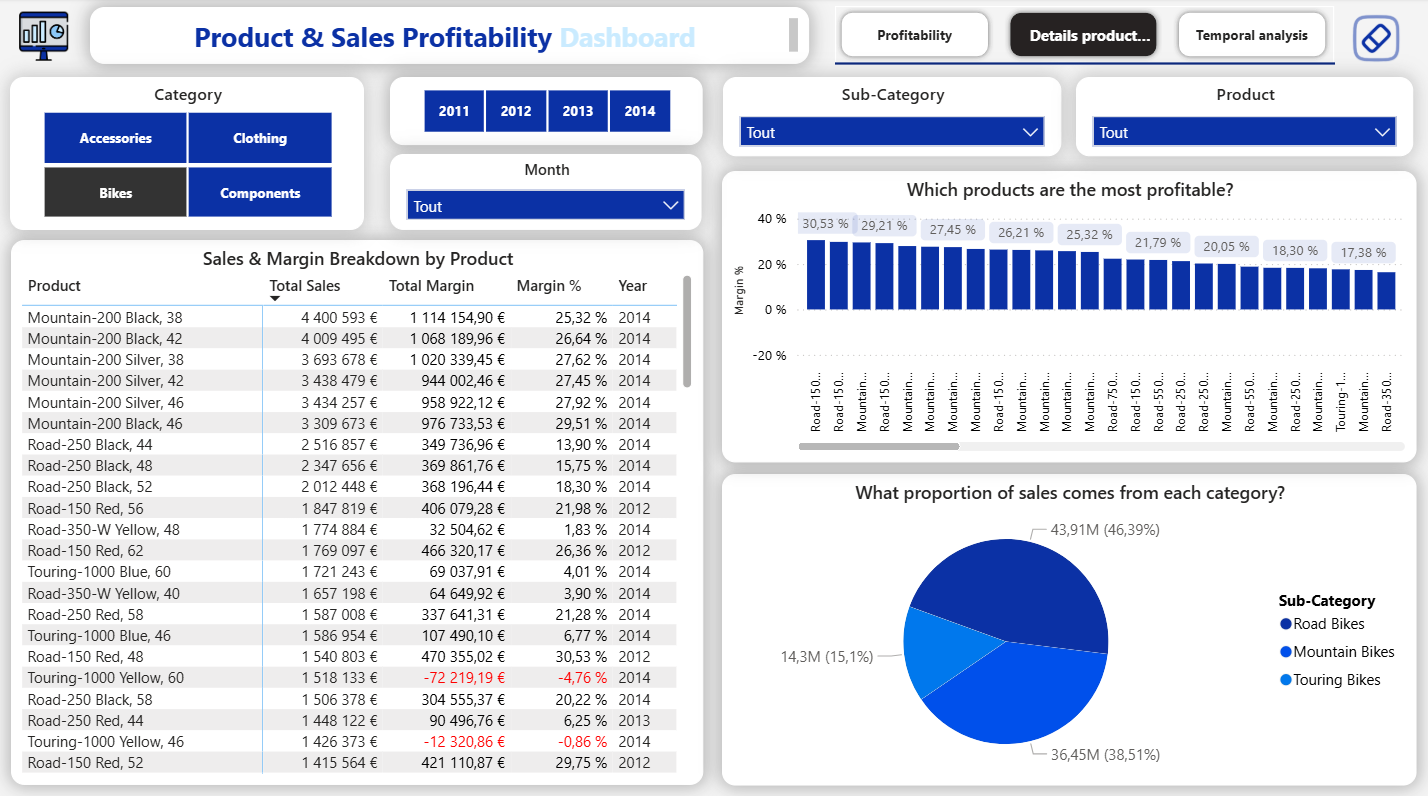

The dashboard page shown, as its layout file describes it:
{"tool":"powerbi","page":{"name":"Details product analysis","canvas":[1280,720],"ordinal":1},"visuals":[{"type":"pivotTable","title":"Sales & Margin Breakdown by Product","fields":{"Values":["ProductProfitability.Total Sales","ProductProfitability.Total Margin","ProductProfitability.Margin %","Max(ProductProfitability.Year)"],"Rows":["ProductProfitability.ProductName"]},"box":[10.7,216.9,619.6,488.3],"z":0},{"type":"pieChart","title":"What proportion of sales comes from each category?","fields":{"Y":["ProductProfitability.Total Sales"],"Category":["ProductProfitability.Category","ProductProfitability.SubCategory"]},"box":[647.8,426,621.5,279.1],"z":1000},{"type":"clusteredColumnChart","title":"Which products are the most profitable?","fields":{"Category":["ProductProfitability.ProductName"],"Y":["ProductProfitability.Margin %"]},"box":[647.8,154.7,621.5,260.7],"z":2000},{"type":"textbox","box":[81.5,8.1,643.9,51],"z":3000},{"type":"pageNavigator","box":[749.1,6.9,447.1,51.3],"z":4000},{"type":"shape","box":[748.7,46.6,447.8,24.2],"z":5000},{"type":"image","box":[0,6.9,80.9,54.3],"z":6000},{"type":"image","box":[1188.2,7.9,90.8,56.3],"z":7000},{"type":"slicer","title":"Category","fields":{"Values":["ProductProfitability.Category"]},"box":[10.3,70.9,317,137],"z":8000},{"type":"slicer","fields":{"Values":["ProductProfitability.OrderDate.Variation.Hiérarchie de dates.Année"]},"box":[350.5,70.9,279.7,60.6],"z":9000},{"type":"slicer","title":"Sub-Category","fields":{"Values":["ProductProfitability.SubCategory"]},"box":[647.9,70.9,303,70.9],"z":10000},{"type":"slicer","title":"Product","fields":{"Values":["ProductProfitability.ProductName"]},"box":[964.9,70.9,302,70.9],"z":11000},{"type":"slicer","title":"Month","fields":{"Values":["ProductProfitability.OrderDate.Variation.Hiérarchie de dates.Mois"]},"box":[350.5,139.8,279,68],"z":11001}]}

Visuals, with their boxes in screenshot pixels (x1, y1, x2, y2), scaled from the page's 1280x720 canvas onto the 1428x796 screenshot:
"Sales & Margin Breakdown by Product" pivotTable: left=12, top=240, right=703, bottom=780
"What proportion of sales comes from each category?" pieChart: left=723, top=471, right=1416, bottom=780
"Which products are the most profitable?" clusteredColumnChart: left=723, top=171, right=1416, bottom=459
textbox: left=91, top=9, right=809, bottom=65
pageNavigator: left=836, top=8, right=1335, bottom=64
shape: left=835, top=52, right=1335, bottom=78
image: left=0, top=8, right=90, bottom=68
image: left=1326, top=9, right=1427, bottom=71
"Category" slicer: left=11, top=78, right=365, bottom=230
slicer - ProductProfitability.OrderDate.Variation.Hiérarchie de dates.Année: left=391, top=78, right=703, bottom=145
"Sub-Category" slicer: left=723, top=78, right=1061, bottom=157
"Product" slicer: left=1076, top=78, right=1413, bottom=157
"Month" slicer: left=391, top=155, right=702, bottom=230
